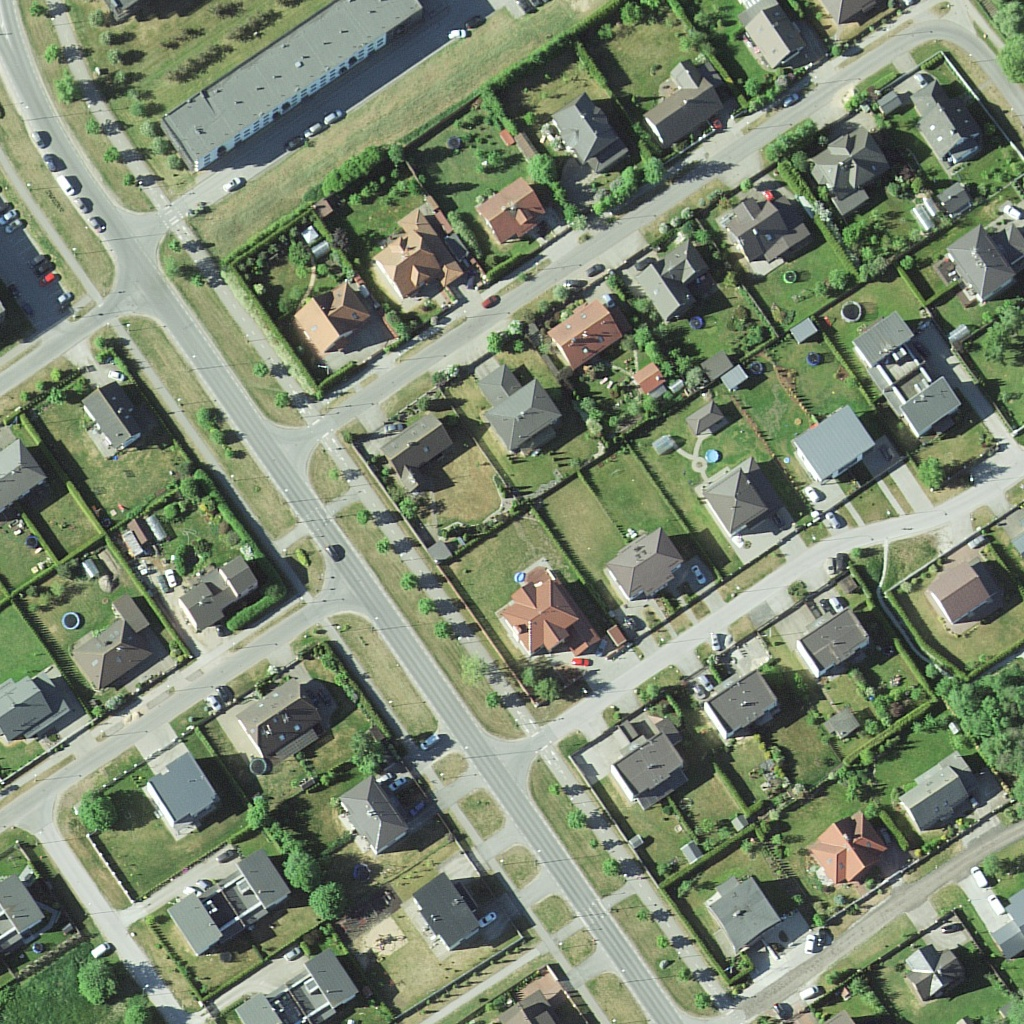building: (162, 1, 415, 179), (857, 313, 965, 439), (169, 852, 289, 957), (377, 209, 477, 302), (238, 952, 354, 1024), (492, 570, 581, 655), (480, 362, 556, 458), (598, 526, 688, 605), (909, 82, 984, 172), (74, 612, 154, 689), (900, 748, 974, 831), (949, 224, 1021, 309), (1, 662, 77, 742), (382, 408, 455, 490), (703, 670, 781, 746), (240, 684, 323, 755), (537, 302, 622, 371), (809, 124, 887, 198), (654, 66, 724, 148), (334, 778, 410, 851), (75, 388, 152, 459), (295, 277, 365, 355), (637, 236, 703, 317), (810, 805, 882, 879), (480, 177, 551, 249), (801, 410, 869, 485), (621, 735, 681, 819), (182, 562, 260, 626), (796, 606, 867, 676), (711, 872, 775, 949), (150, 750, 218, 822), (558, 86, 616, 169), (728, 201, 801, 262), (420, 876, 482, 943), (710, 464, 771, 532), (1, 442, 48, 519), (745, 3, 804, 62), (905, 937, 960, 996), (1, 870, 41, 945), (937, 568, 988, 611)
